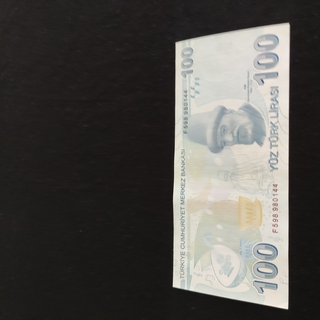100TLBack: (172, 21, 295, 309)
